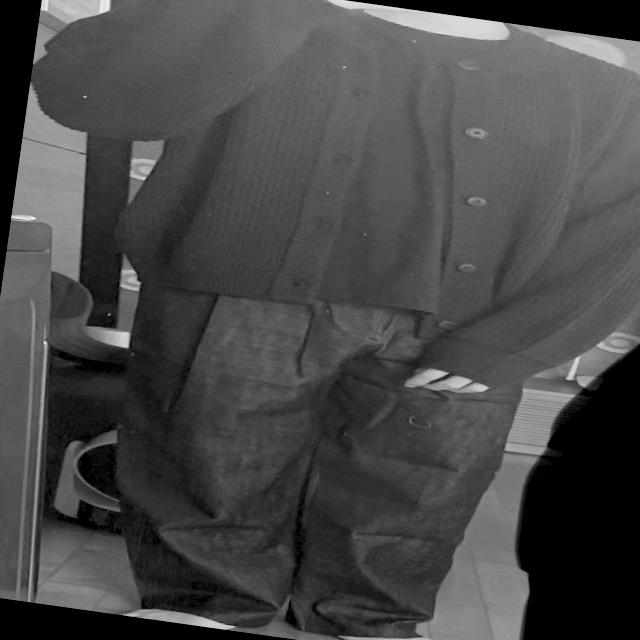cardigan: (2, 0, 640, 408)
denimpants: (101, 265, 526, 640)
